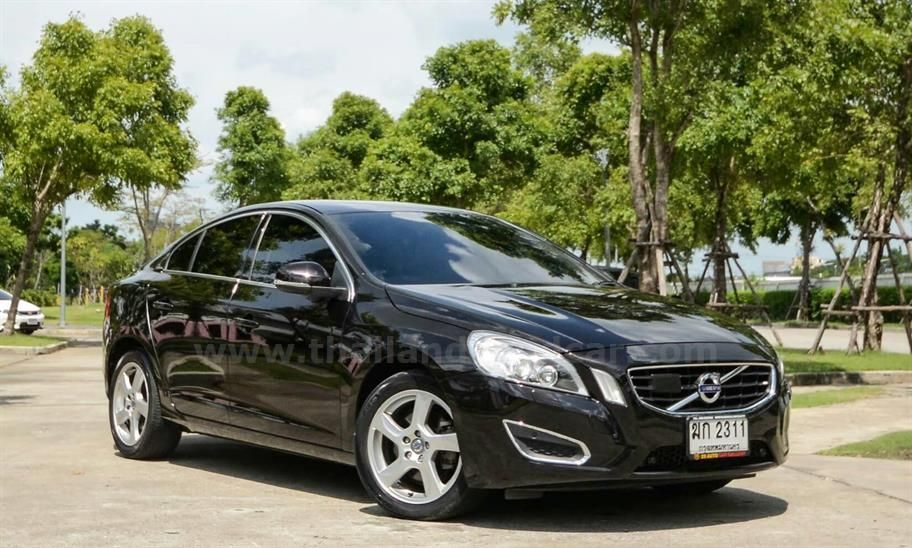sedan: (97, 198, 798, 520)
